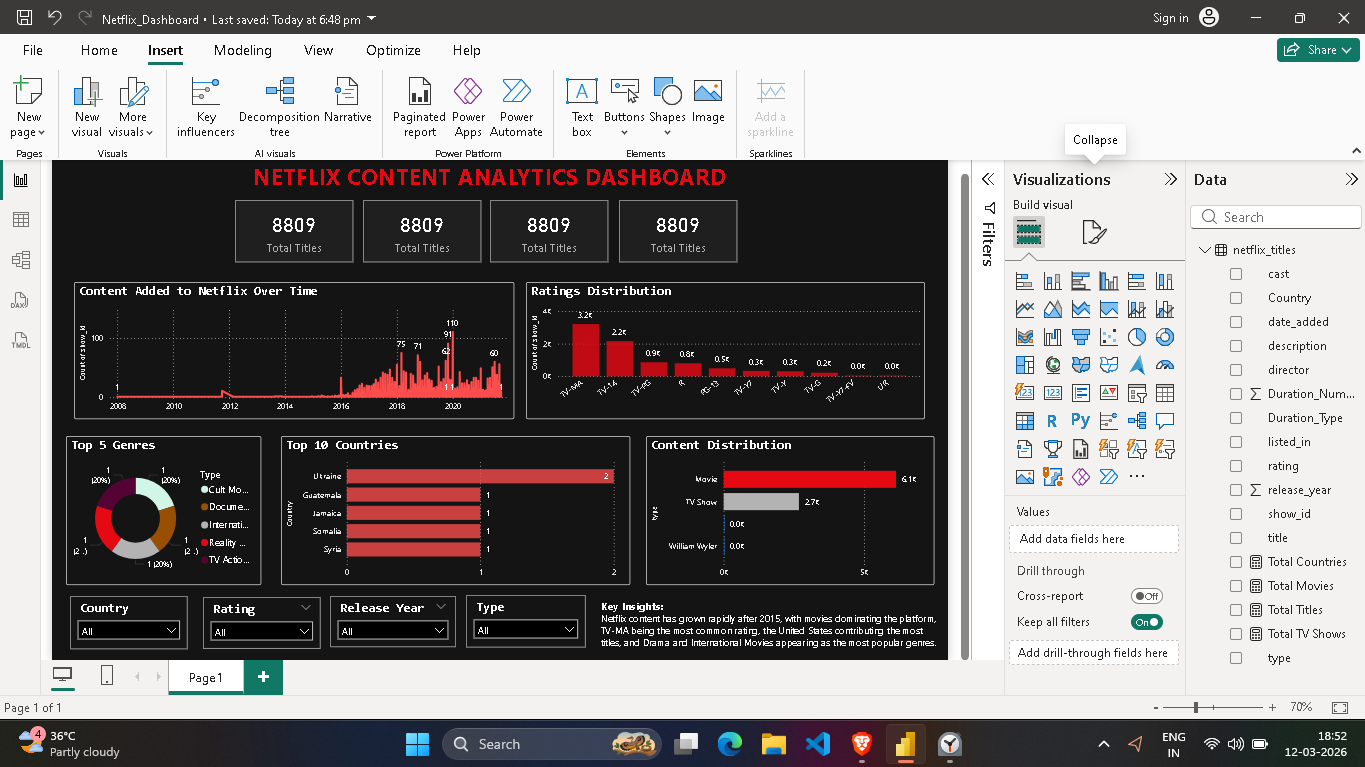

The page's visual inventory and layout, read from the dashboard file:
{"tool":"powerbi","page":{"name":"Page 1","canvas":[1280,720],"ordinal":0},"visuals":[{"type":"card","fields":{"Values":["netflix_titles.Total Titles"]},"box":[261.4,62.9,168.6,88.6],"z":0},{"type":"donutChart","title":"Top 5 Genres","fields":{"Category":["netflix_titles.listed_in"],"Y":["CountNonNull(netflix_titles.show_id)"]},"box":[20.2,399.8,278.8,213.3],"z":4000},{"type":"lineChart","title":"Content Added to Netflix Over Time","fields":{"Category":["netflix_titles.date_added"],"Y":["CountNonNull(netflix_titles.show_id)"]},"box":[31.7,180,629.3,195.8],"z":5000},{"type":"barChart","title":"Content Distribution","fields":{"Category":["netflix_titles.type"],"Y":["CountNonNull(netflix_titles.show_id)"]},"box":[848.3,399.8,411.5,213.3],"z":5002},{"type":"clusteredColumnChart","title":"Ratings Distribution","fields":{"Y":["CountNonNull(netflix_titles.show_id)"],"Category":["netflix_titles.rating"]},"box":[677.1,180,570,195.7],"z":5003},{"type":"slicer","fields":{"Values":["netflix_titles.type"]},"box":[591.8,627.8,171.4,74.9],"z":5004},{"type":"slicer","fields":{"Values":["netflix_titles.release_year"]},"box":[397.4,629.3,180,73.4],"z":5006},{"type":"slicer","fields":{"Values":["netflix_titles.rating"]},"box":[215,629.9,168,73.9],"z":5007},{"type":"textbox","box":[249.1,0,754.6,63.4],"z":5008},{"type":"clusteredBarChart","title":"Top 10 Countries","fields":{"Category":["netflix_titles.Country"],"Y":["CountNonNull(netflix_titles.show_id)"]},"box":[327.6,399.8,498.9,213.3],"z":5009},{"type":"slicer","fields":{"Values":["netflix_titles.Country"]},"box":[25.2,628.2,168,75.6],"z":5010},{"type":"card","fields":{"Values":["netflix_titles.Total Titles"]},"box":[444.3,62.9,168.6,88.6],"z":5011},{"type":"card","fields":{"Values":["netflix_titles.Total Titles"]},"box":[810,62.9,168.6,88.6],"z":5012},{"type":"card","fields":{"Values":["netflix_titles.Total Titles"]},"box":[625.7,62.9,168.6,88.6],"z":5013},{"type":"textbox","box":[778.6,627.1,501.4,92.9],"z":5014}]}

Visuals, with their boxes on the page's 1280x720 design canvas (x1, y1, x2, y2). These are canvas units, not pixel positions in the 1365x767 screenshot, which may show the page scaled, cropped or inside an application window:
card - netflix_titles.Total Titles: x1=261 y1=63 x2=430 y2=152
"Top 5 Genres" donutChart: x1=20 y1=400 x2=299 y2=613
"Content Added to Netflix Over Time" lineChart: x1=32 y1=180 x2=661 y2=376
"Content Distribution" barChart: x1=848 y1=400 x2=1260 y2=613
"Ratings Distribution" clusteredColumnChart: x1=677 y1=180 x2=1247 y2=376
slicer - netflix_titles.type: x1=592 y1=628 x2=763 y2=703
slicer - netflix_titles.release_year: x1=397 y1=629 x2=577 y2=703
slicer - netflix_titles.rating: x1=215 y1=630 x2=383 y2=704
textbox: x1=249 y1=0 x2=1004 y2=63
"Top 10 Countries" clusteredBarChart: x1=328 y1=400 x2=826 y2=613
slicer - netflix_titles.Country: x1=25 y1=628 x2=193 y2=704
card - netflix_titles.Total Titles: x1=444 y1=63 x2=613 y2=152
card - netflix_titles.Total Titles: x1=810 y1=63 x2=979 y2=152
card - netflix_titles.Total Titles: x1=626 y1=63 x2=794 y2=152
textbox: x1=779 y1=627 x2=1280 y2=720
